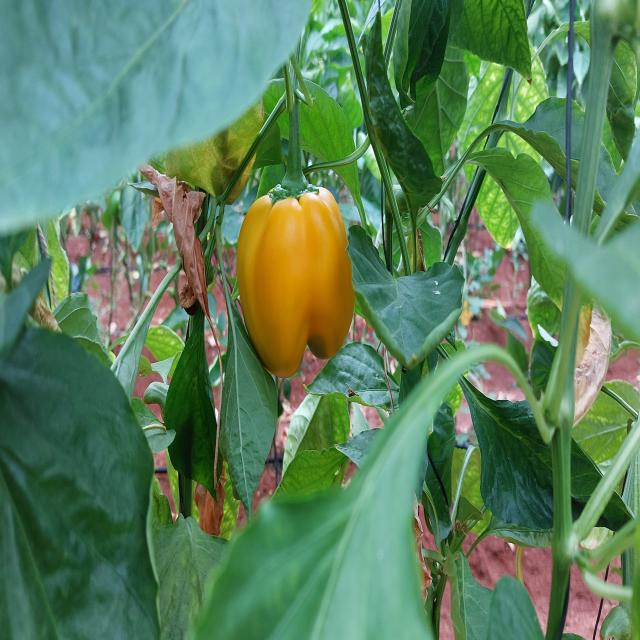Yellow-Ready-to-Harvest: (233, 182, 359, 378)
